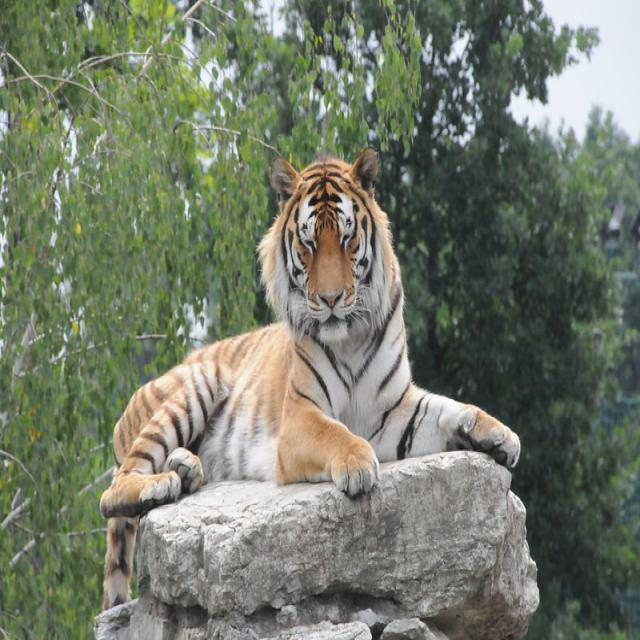Tiger: (94, 141, 522, 614)
